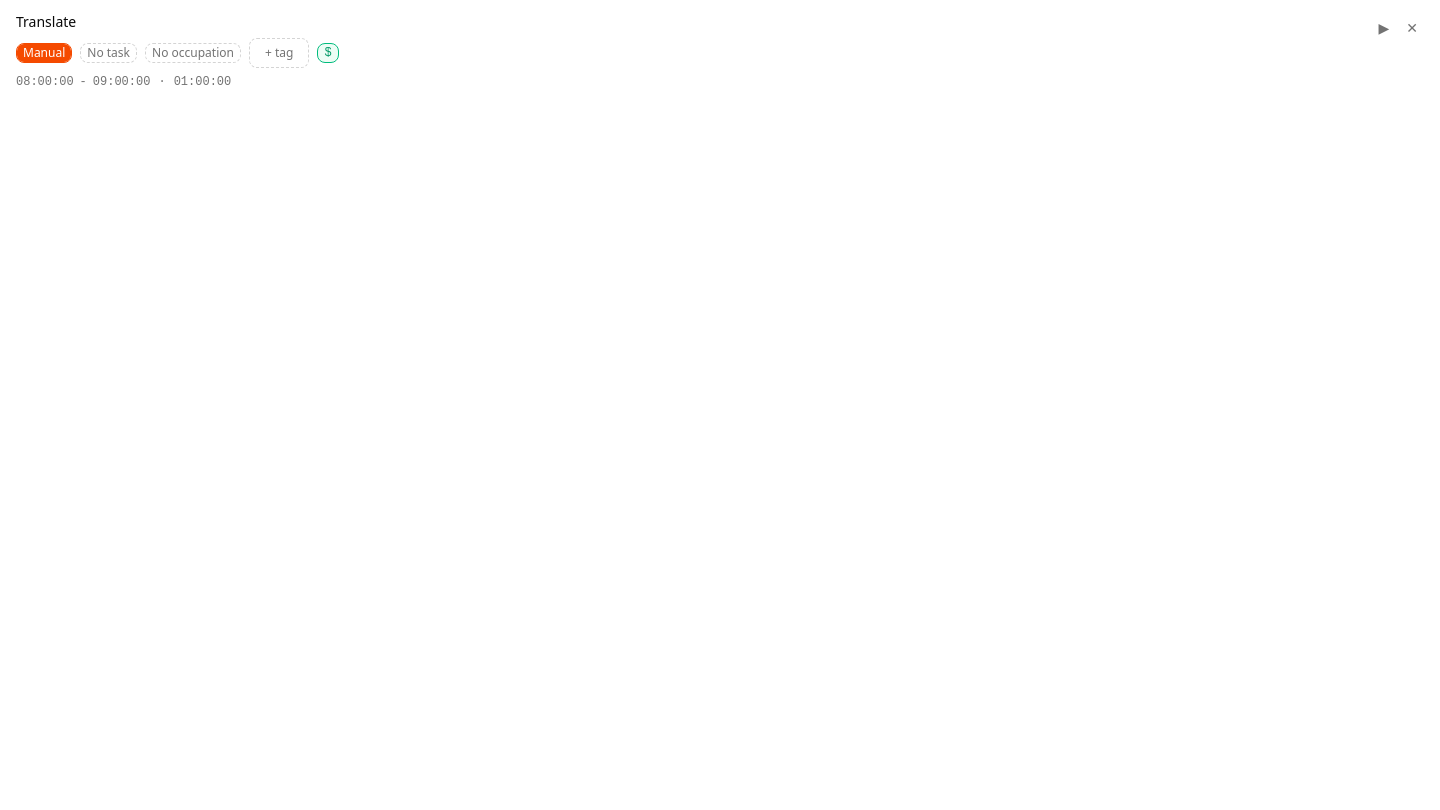
it: TtcEntryRow › the project picker marks the current project and closes back to its button on Escape
Click the button titled "Edit project" at (44, 53), box [16, 43, 72, 63]
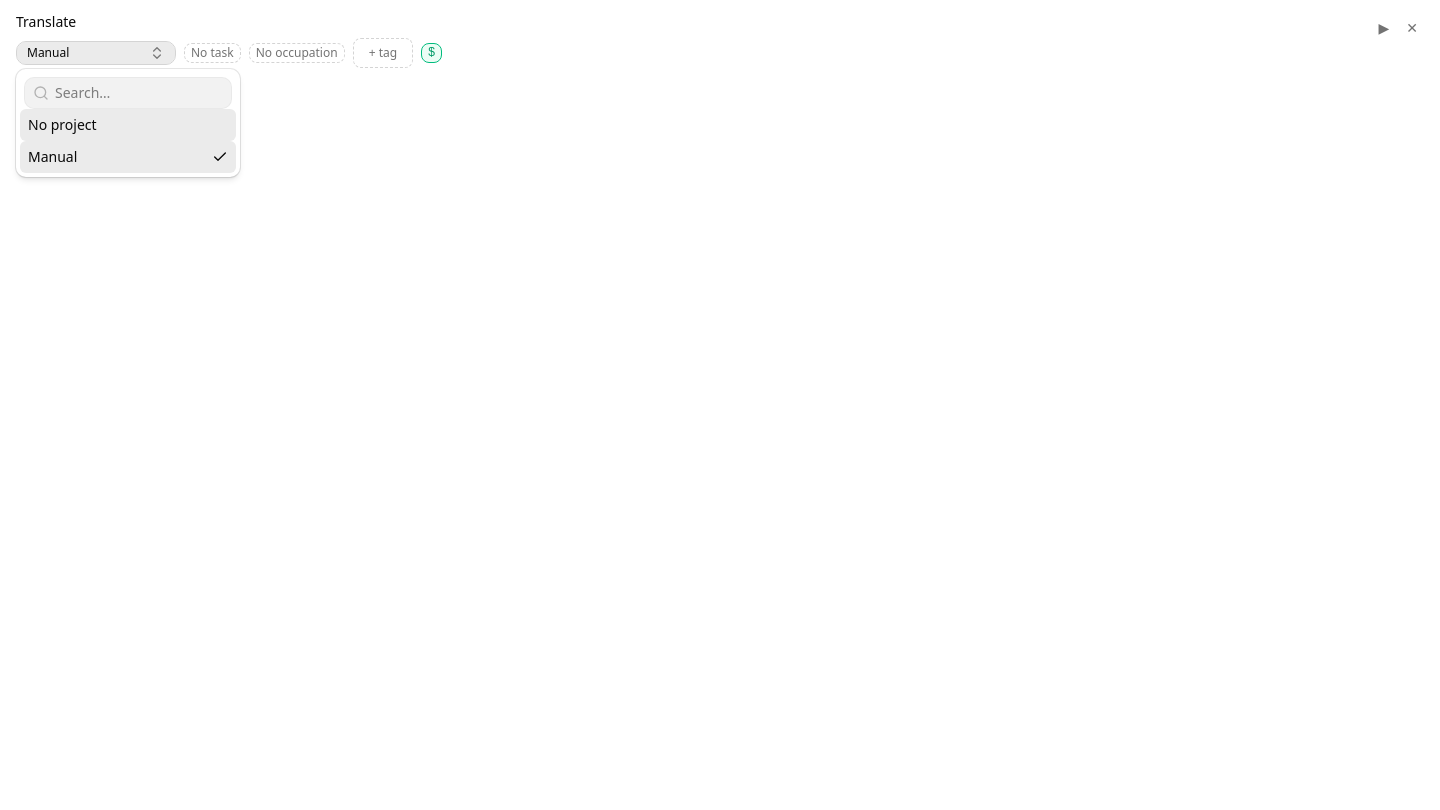
Press Escape in the dropdown with placeholder "Search…", box [49, 83, 231, 103]
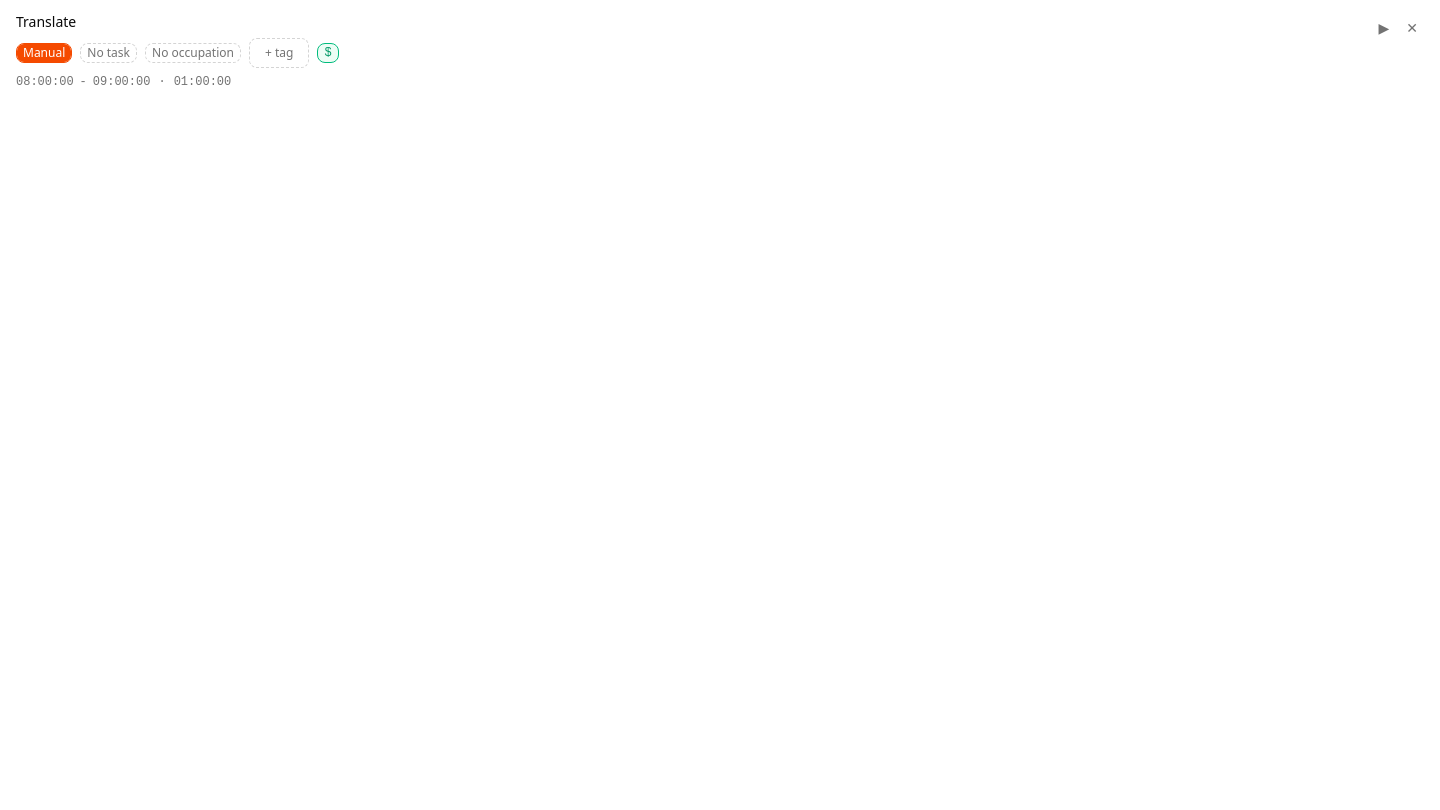
Check: the button titled "Edit project" is shown, box [16, 43, 72, 63]
Check: the dropdown is gone
